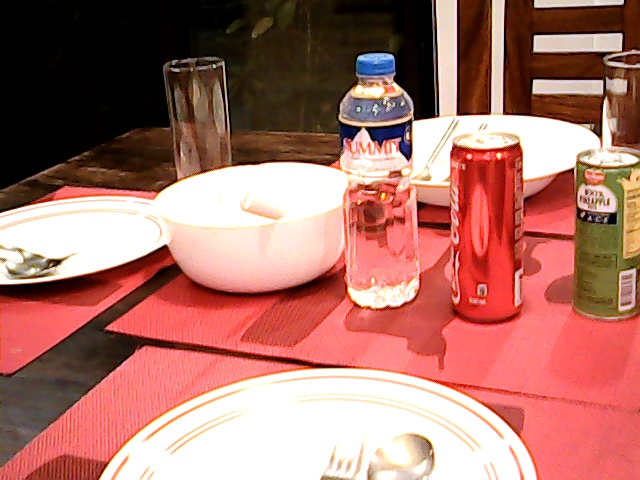Cola: (447, 126, 529, 325)
Pine Juice: (569, 138, 640, 325)
Summit Water: (336, 49, 428, 307)
